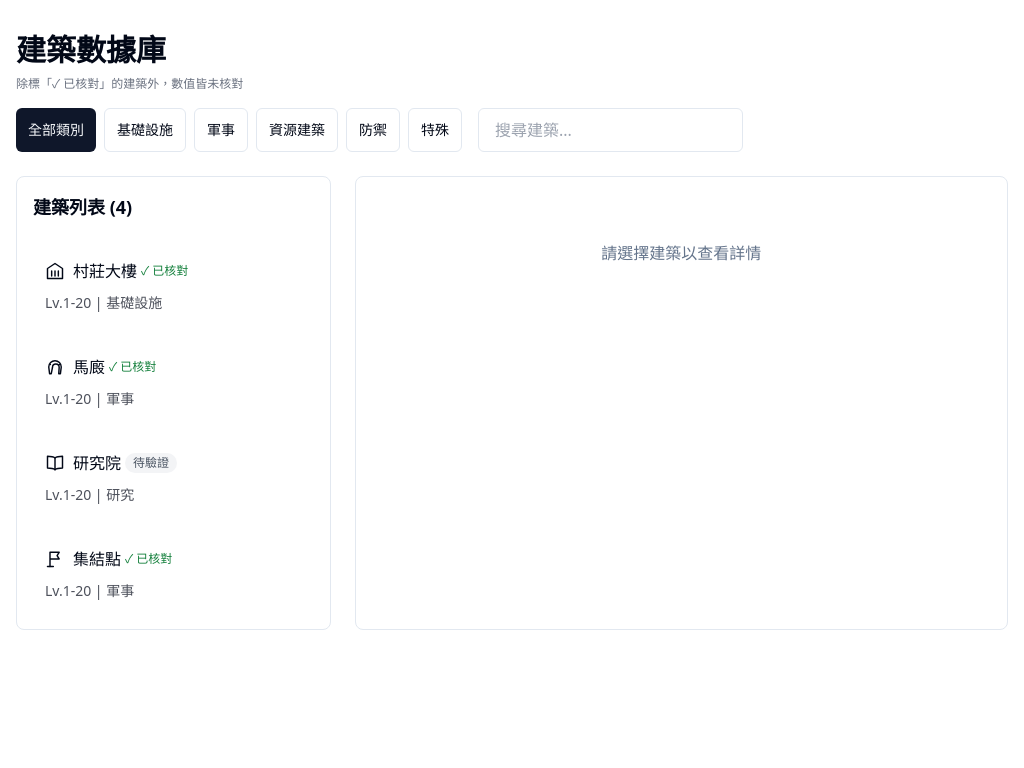
BuildingsPage effect column (official knowledge base, P0-23) › effect not verified: chip by the 效果 heading (note under the header row) and chip by the title, same two lines
Click the text "研究院": coordinates (111, 463) [45,452,177,474]
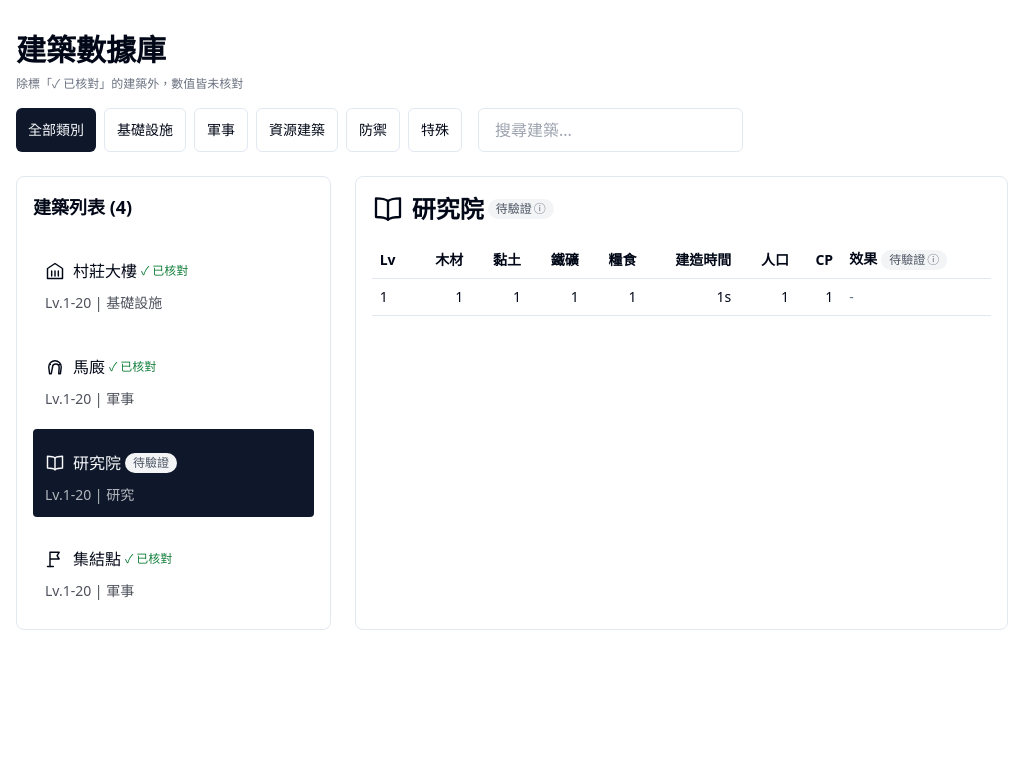
Click the button with test id "pending-verify-chip": coordinates (914, 260) [881,250,947,270]
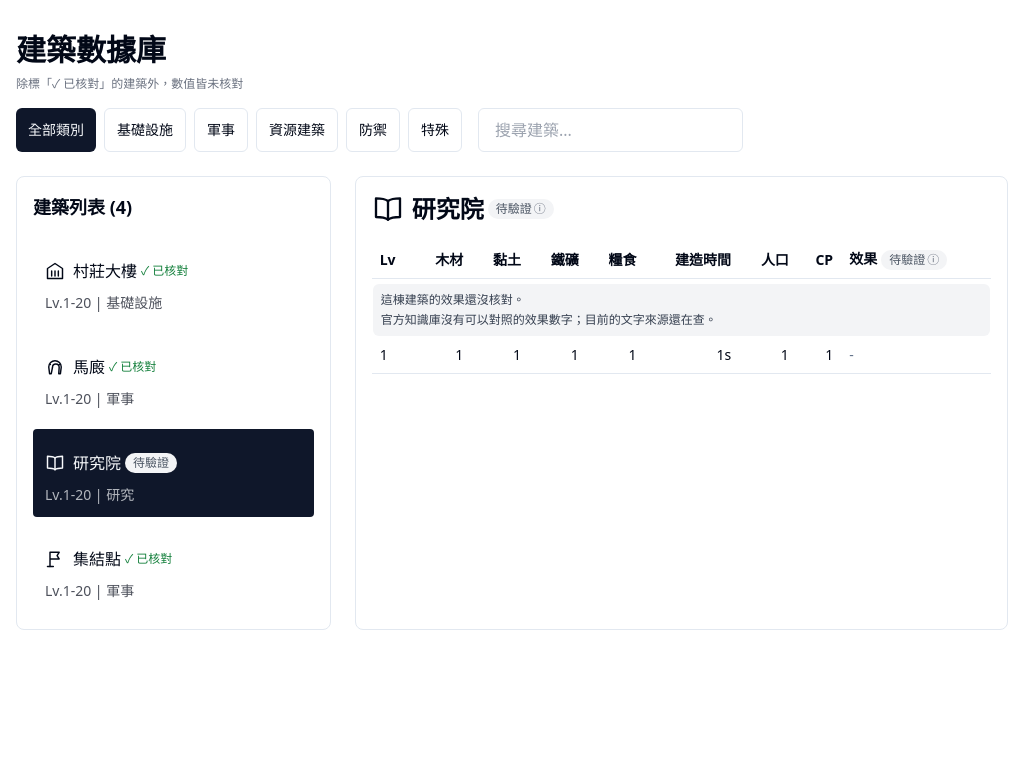
Expected: the text with test id "pending-note-what" reads "這棟建築的效果還沒核對。", [381,291,525,308]
Expected: the element with test id "pending-note-source" reads "官方知識庫沒有可以對照的效果數字； 目前的文字來源還在查。", [381,311,717,328]
Click the button with test id "pending-verify-chip": coordinates (914, 260) [881,250,947,270]
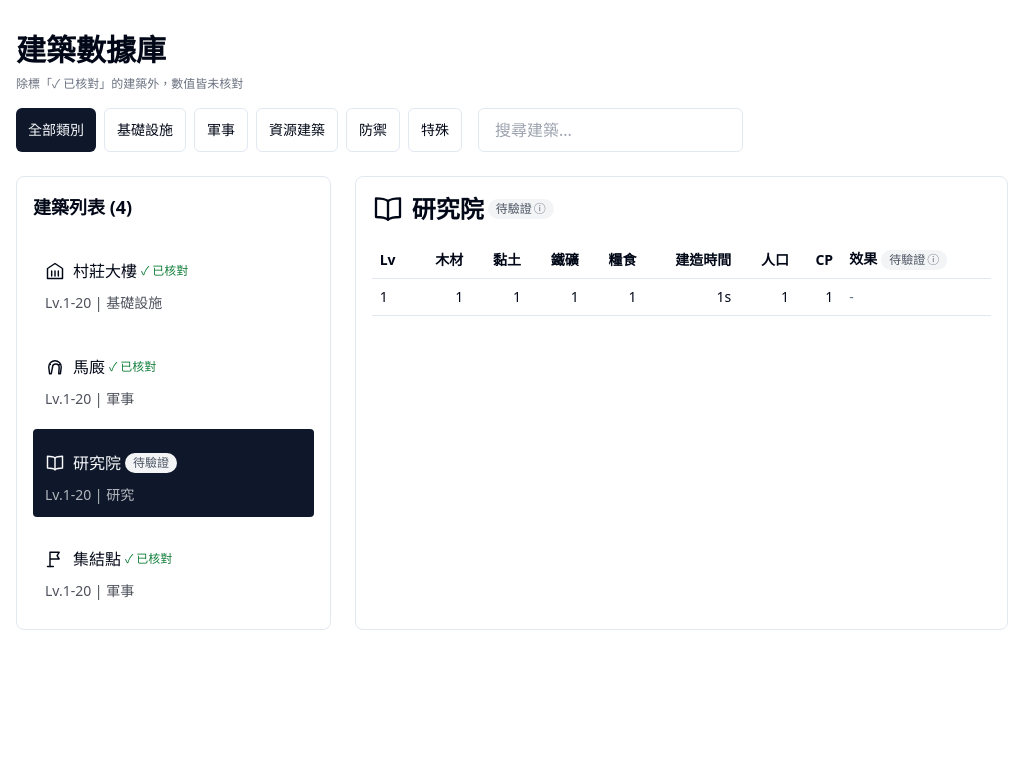
Click the button with test id "pending-verify-chip": coordinates (521, 209) [488,199,554,219]
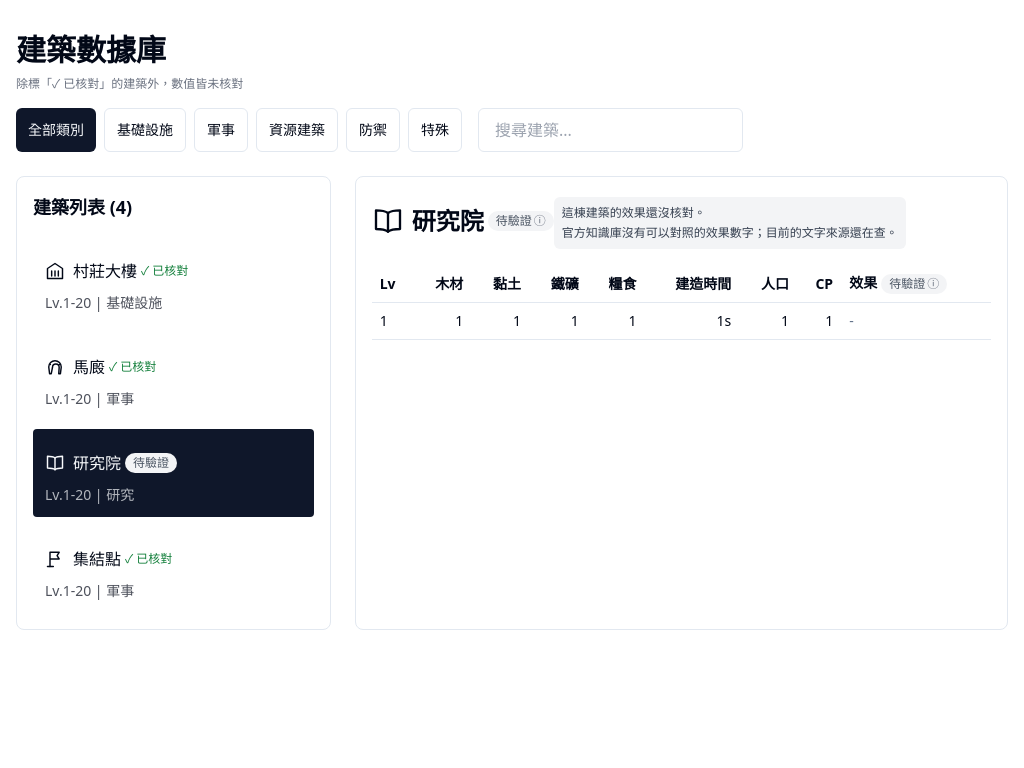
Expected: the text with test id "pending-note-what" reads "這棟建築的效果還沒核對。", [562,204,706,221]
Expected: the element with test id "pending-note-source" reads "官方知識庫沒有可以對照的效果數字； 目前的文字來源還在查。", [562,223,898,243]
